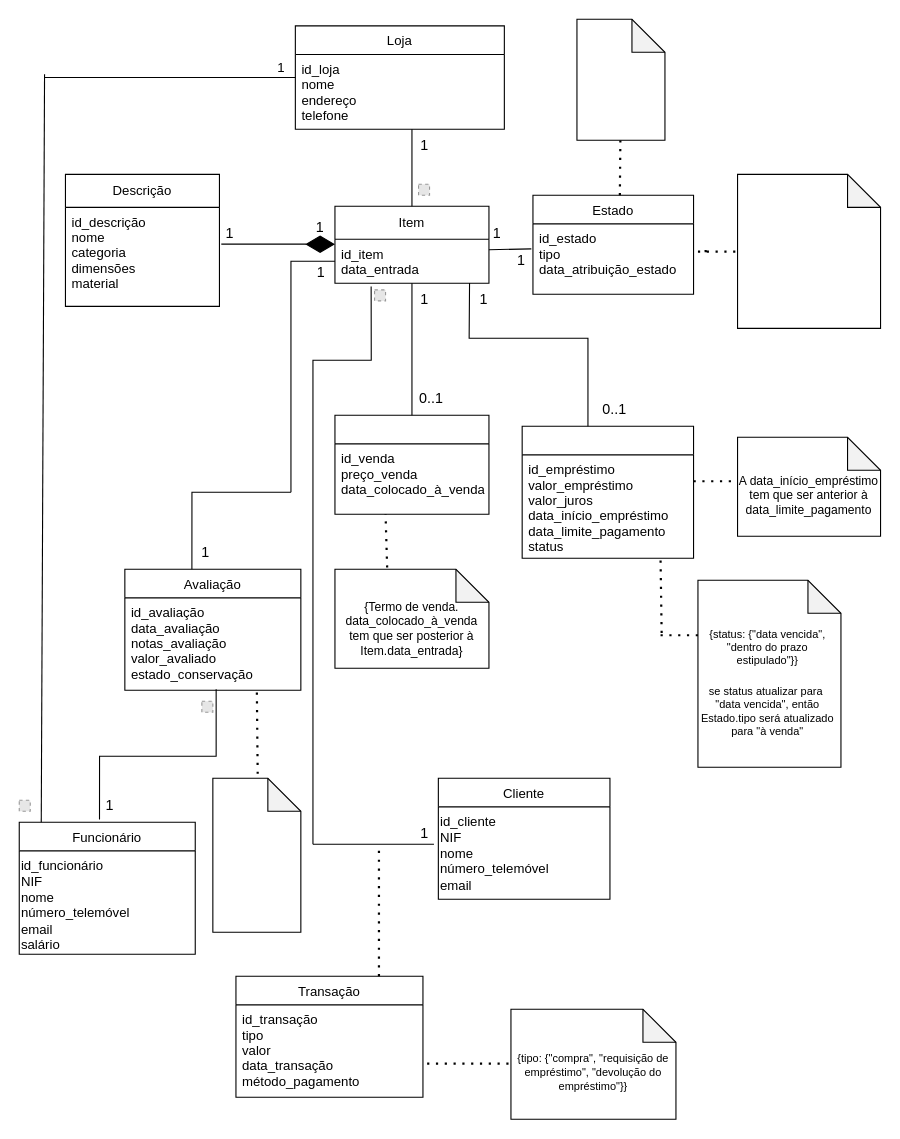
This 900x1139 diagram has some shape labels left out. Grey dashed boxes stand in for pictures. Each missing label, with the box of its shape:
Termo de empréstimo: (521, 425, 694, 558)
Termo de Venda: (334, 414, 489, 514)
{Avaliação. data_avaliação tem que ser anterior ou igual à Item.data_entra da}: (212, 777, 301, 932)
{Item.Estado.data_atri buição_estado >= Item.data_entrada}}: (736, 173, 881, 328)
{tipo: {"penhorado", "à venda" }: (576, 18, 665, 140)
